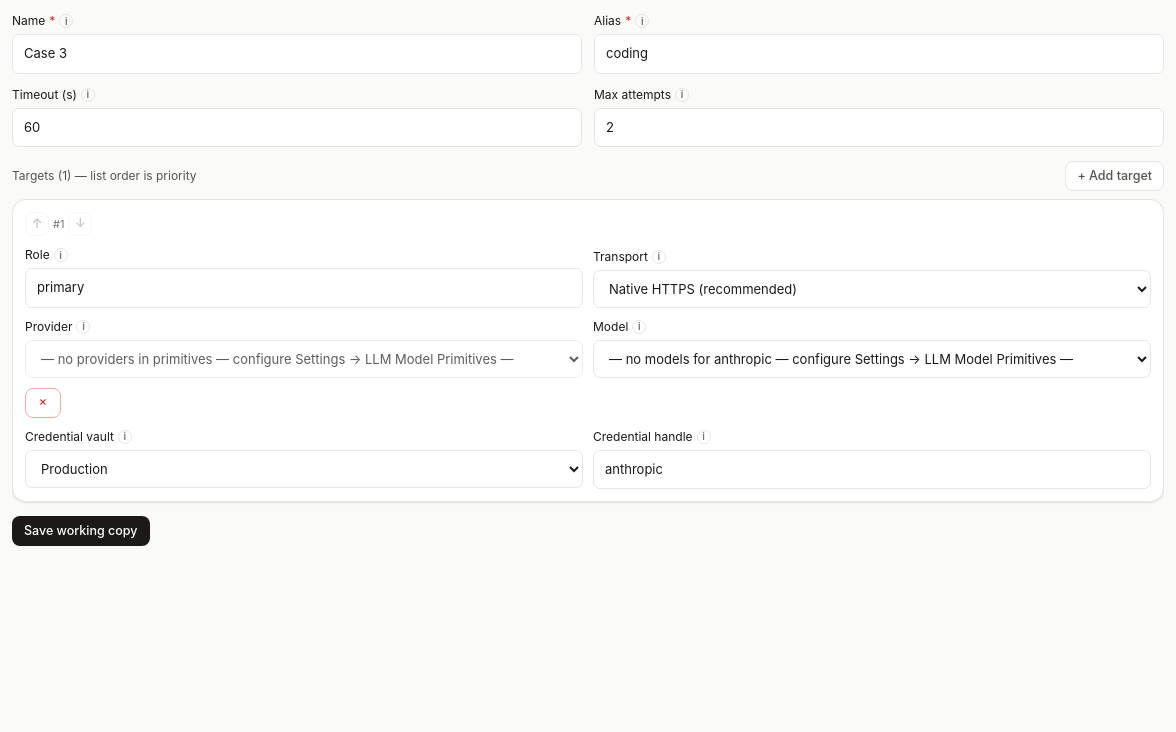
validates Max attempts against the API limits
Replace the text in the number field labelled "Max attempts" with "6": coordinates (879, 127) [594, 108, 1164, 147]
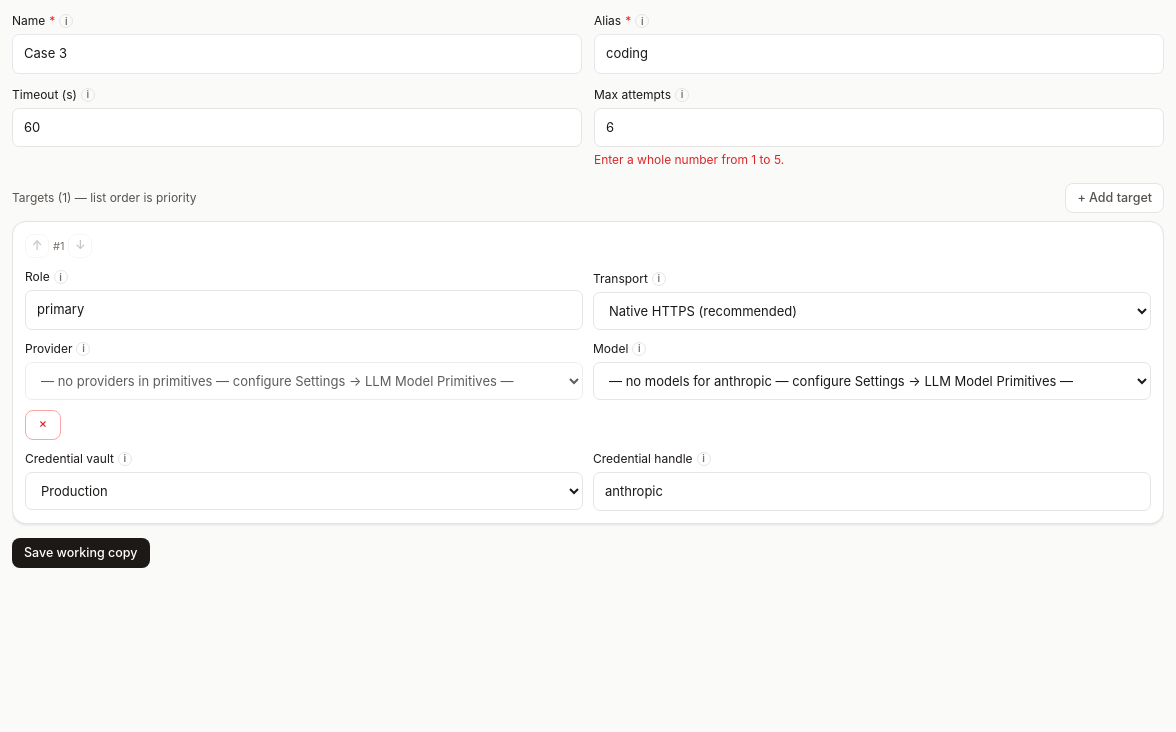
Now the button "Save working copy" is disabled, box [12, 538, 150, 568]
Replace the text in the number field labelled "Max attempts" with "2": coordinates (879, 127) [594, 108, 1164, 147]
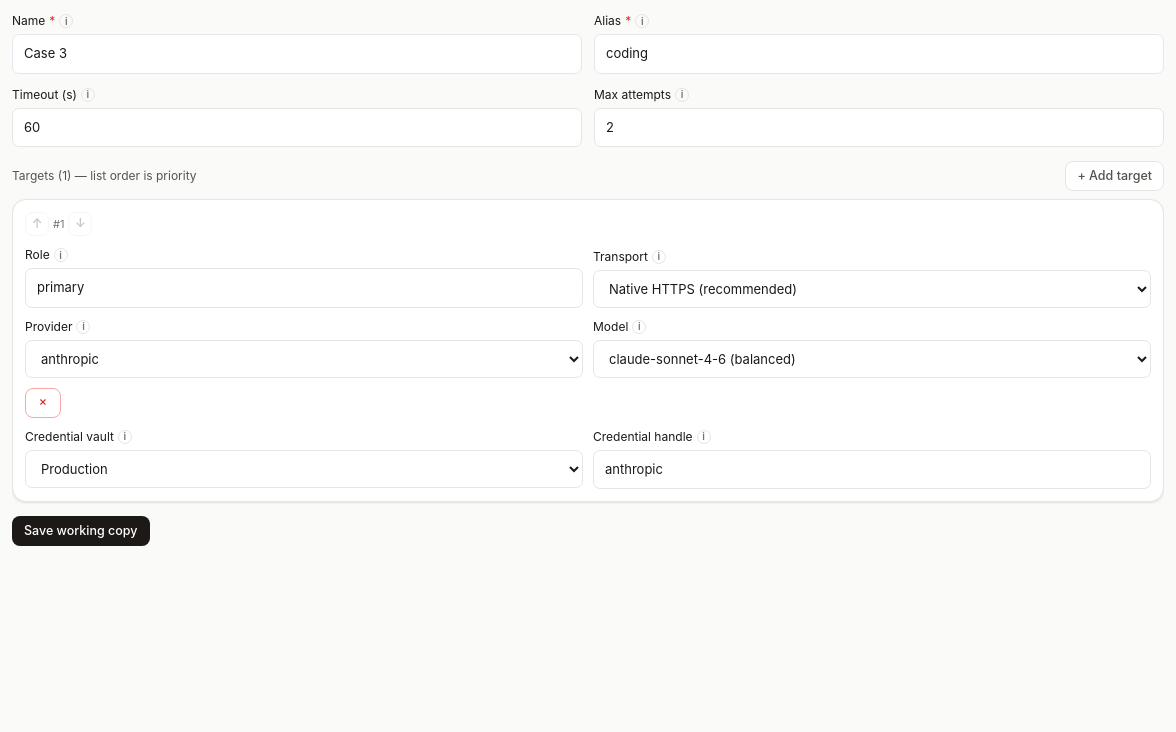
Now the button "Save working copy" is enabled, box [12, 516, 150, 546]
